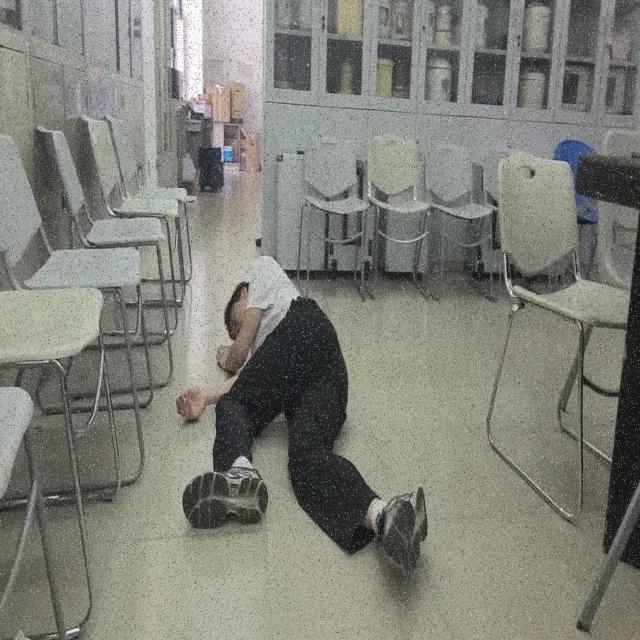fall: (174, 253, 429, 577)
